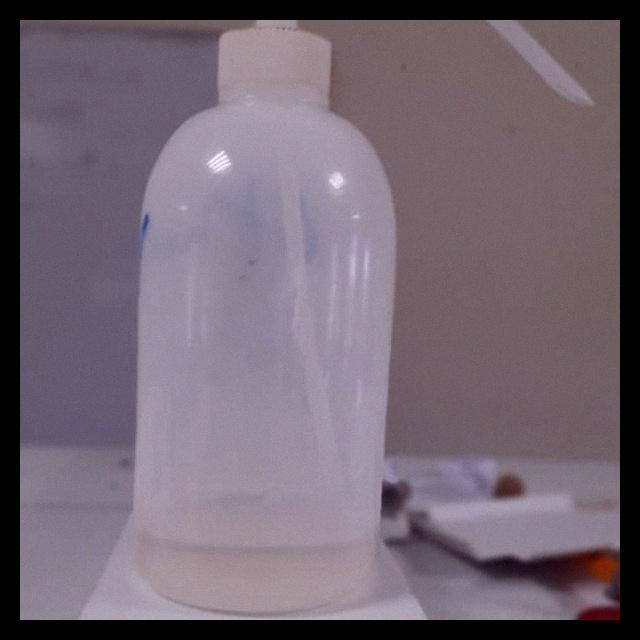Washing Bottle: (116, 20, 590, 610)
